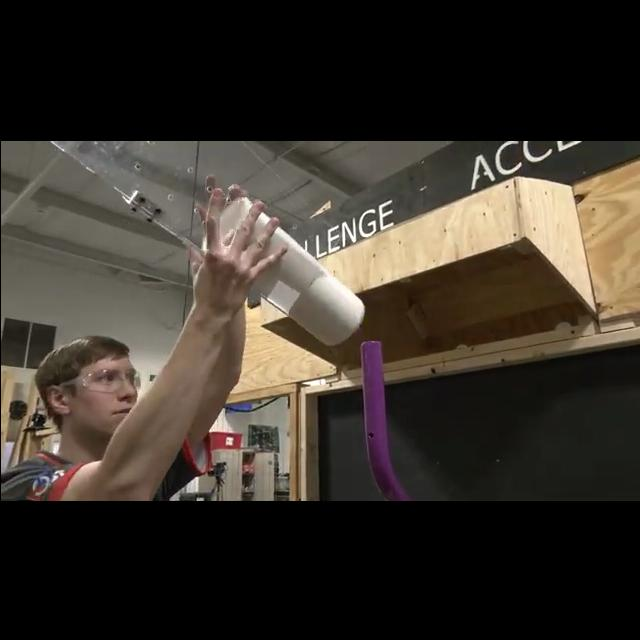CORAL: (198, 194, 366, 346)
